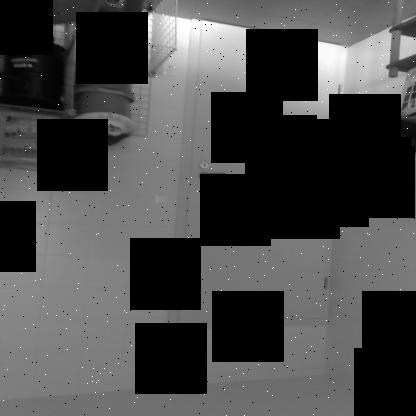Porte: (164, 17, 348, 332)
